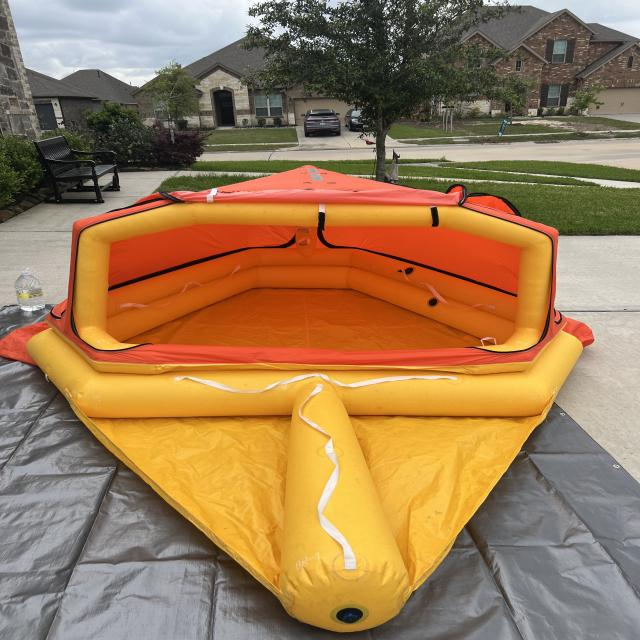Multi-person_life_raft: (0, 162, 593, 636)
